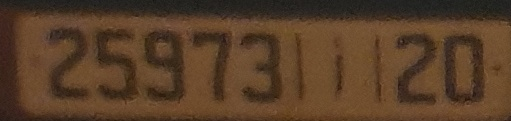0: (440, 32, 486, 106)
2: (393, 31, 439, 106), (46, 27, 92, 100)
3: (237, 31, 284, 106)
5: (93, 28, 139, 104)
7: (190, 29, 231, 103)
9: (142, 28, 186, 104)
a: (328, 33, 350, 104)
